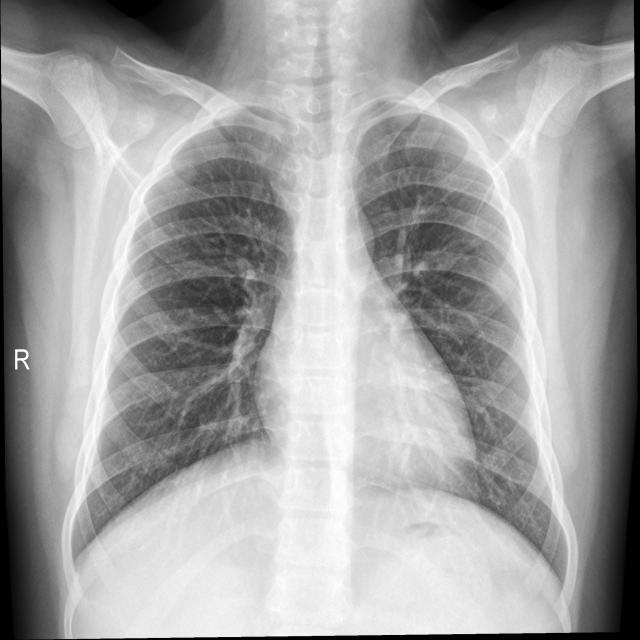no-pneumonia: (356, 103, 577, 595), (71, 108, 294, 560)
